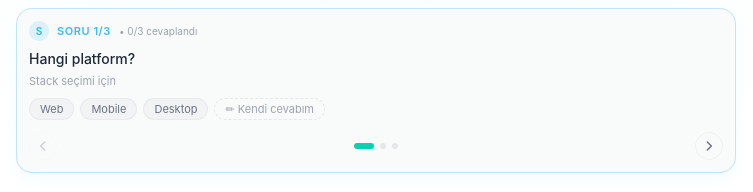
Test case: ClarificationCard › selecting a suggestion updates answer count and does not submit
Click the button "Web". click: (52, 109)
box: [29,98,74,120]
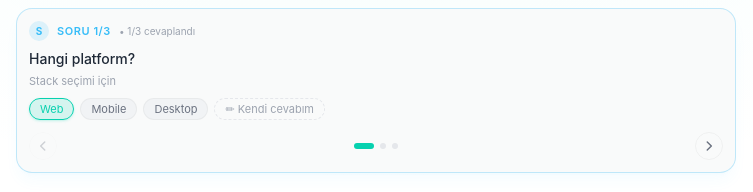
Now the text "• 1/3 cevaplandı" is shown, box [119,24,195,38]
